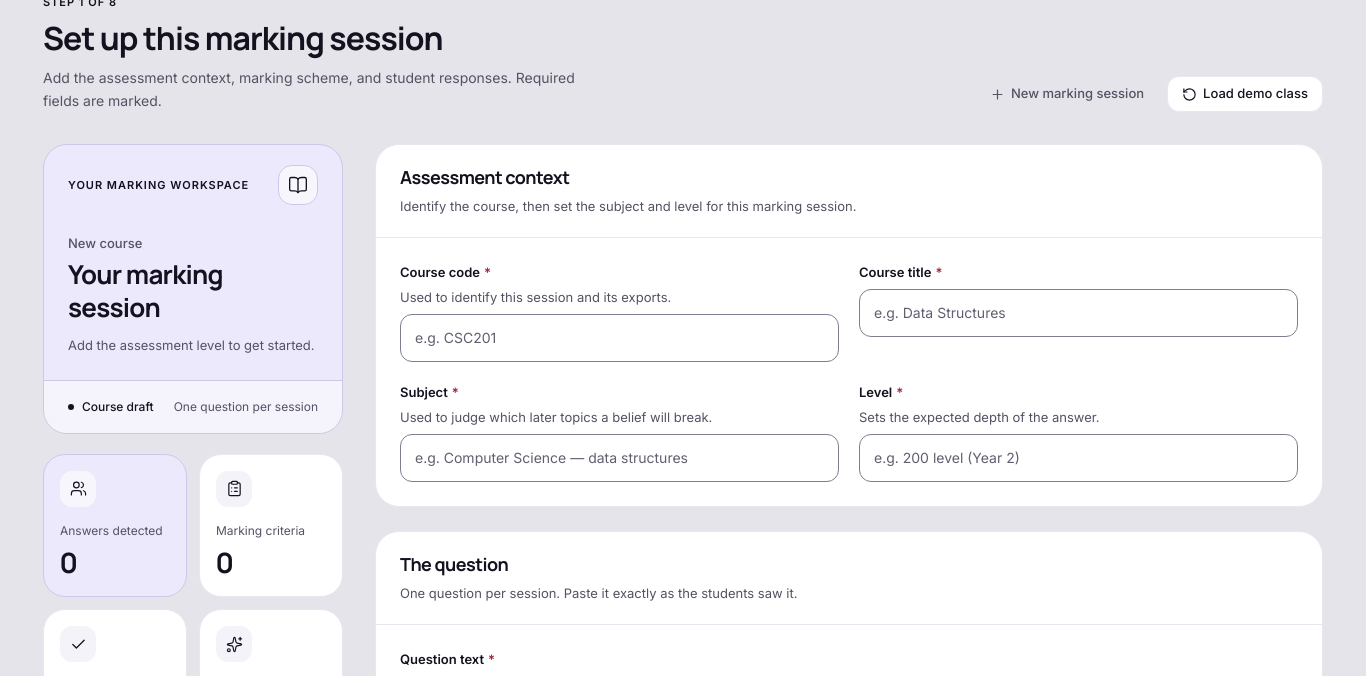
Test: requires whole positive criterion marks before starting
Click the button "Load demo class" at (1245,94), box top-left (1167, 76), bottom-right (1323, 112)
(page scrolled)
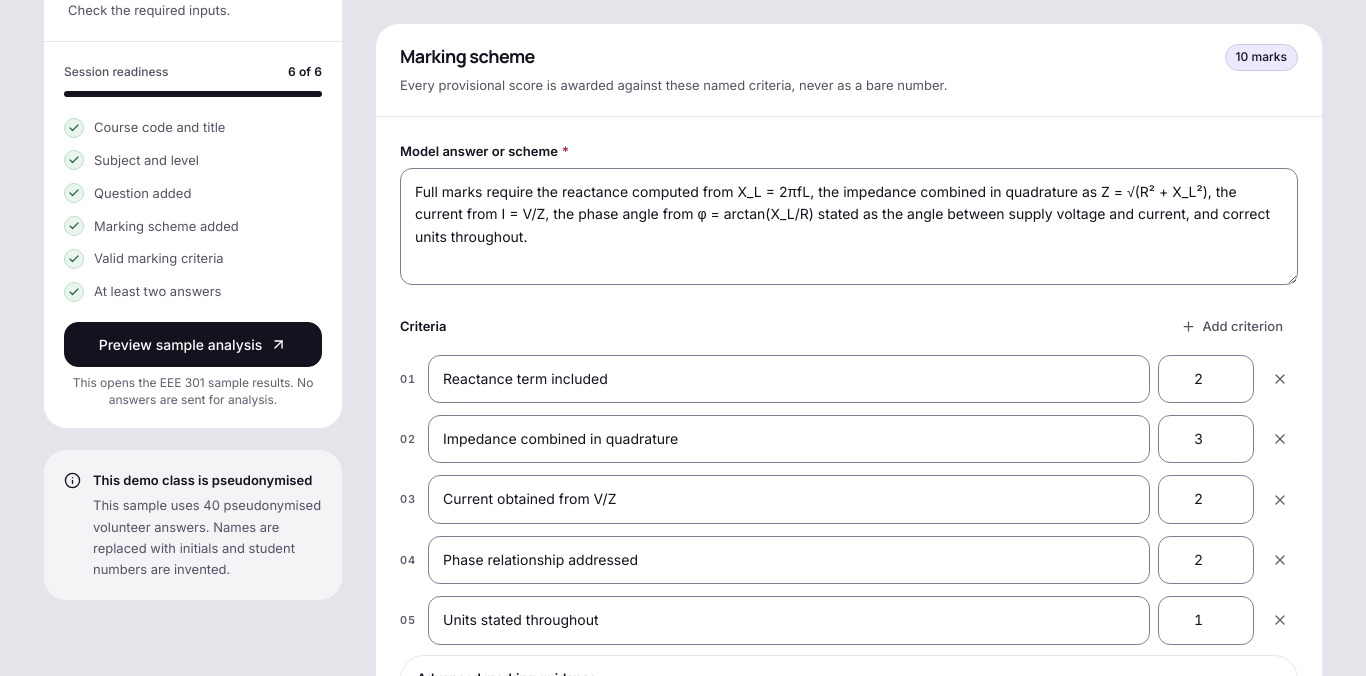
Replace the text in the number field named "Marks for criterion 1" with "1.5" at (1206,379), box top-left (1158, 355), bottom-right (1254, 403)
(page scrolled)
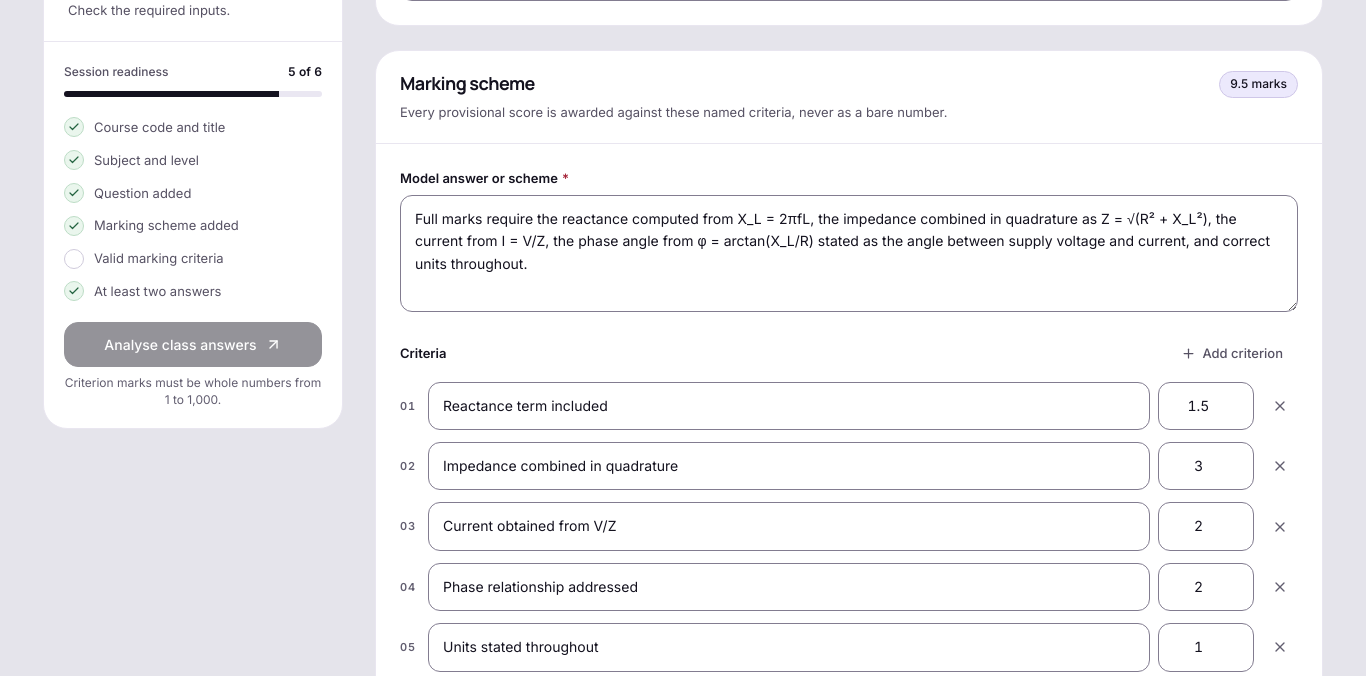
Expected: the button "Analyse class answers" is disabled, top-left (64, 322), bottom-right (322, 367)
Expected: the text "Criterion marks must be whole numbers from 1 to 1,000." is shown, top-left (64, 375), bottom-right (322, 408)
